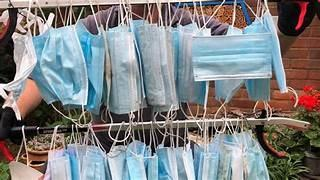Glove: (277, 0, 318, 35), (0, 107, 22, 143)
Mask: (32, 26, 87, 104), (192, 33, 271, 80), (0, 33, 36, 119), (107, 25, 140, 113), (76, 21, 104, 113), (136, 23, 165, 105), (177, 23, 205, 104), (154, 26, 178, 111), (262, 11, 287, 92), (130, 20, 146, 106), (243, 133, 268, 179), (218, 134, 243, 179), (197, 137, 220, 178), (44, 149, 71, 179), (81, 146, 105, 179), (101, 30, 111, 108), (126, 141, 146, 179), (156, 147, 177, 179), (107, 146, 127, 179), (215, 79, 243, 102), (175, 147, 194, 179), (197, 152, 218, 179), (170, 28, 179, 87), (245, 78, 269, 100), (66, 144, 80, 179), (193, 144, 203, 179), (147, 154, 158, 178)
